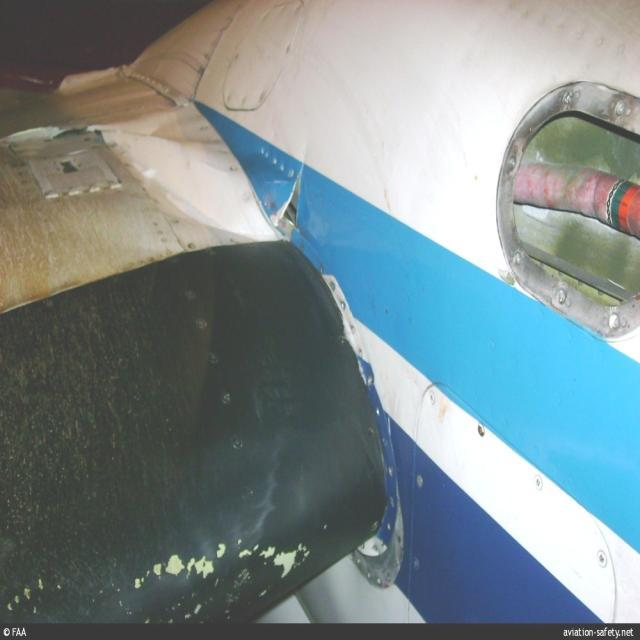crack: (275, 176, 305, 230)
